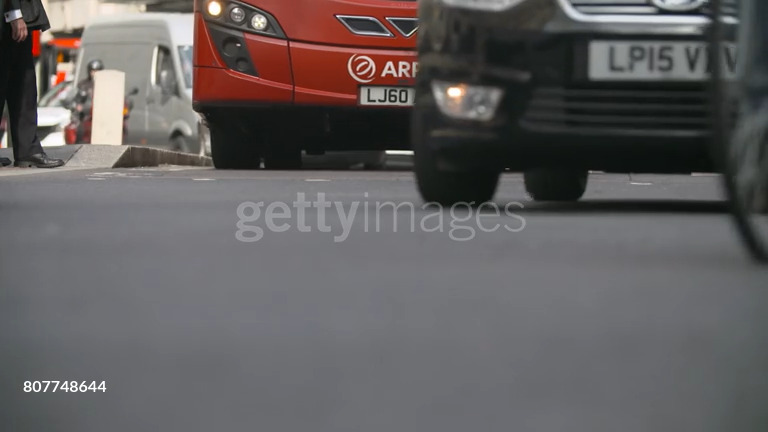car number: (588, 39, 724, 78), (359, 85, 416, 105)
